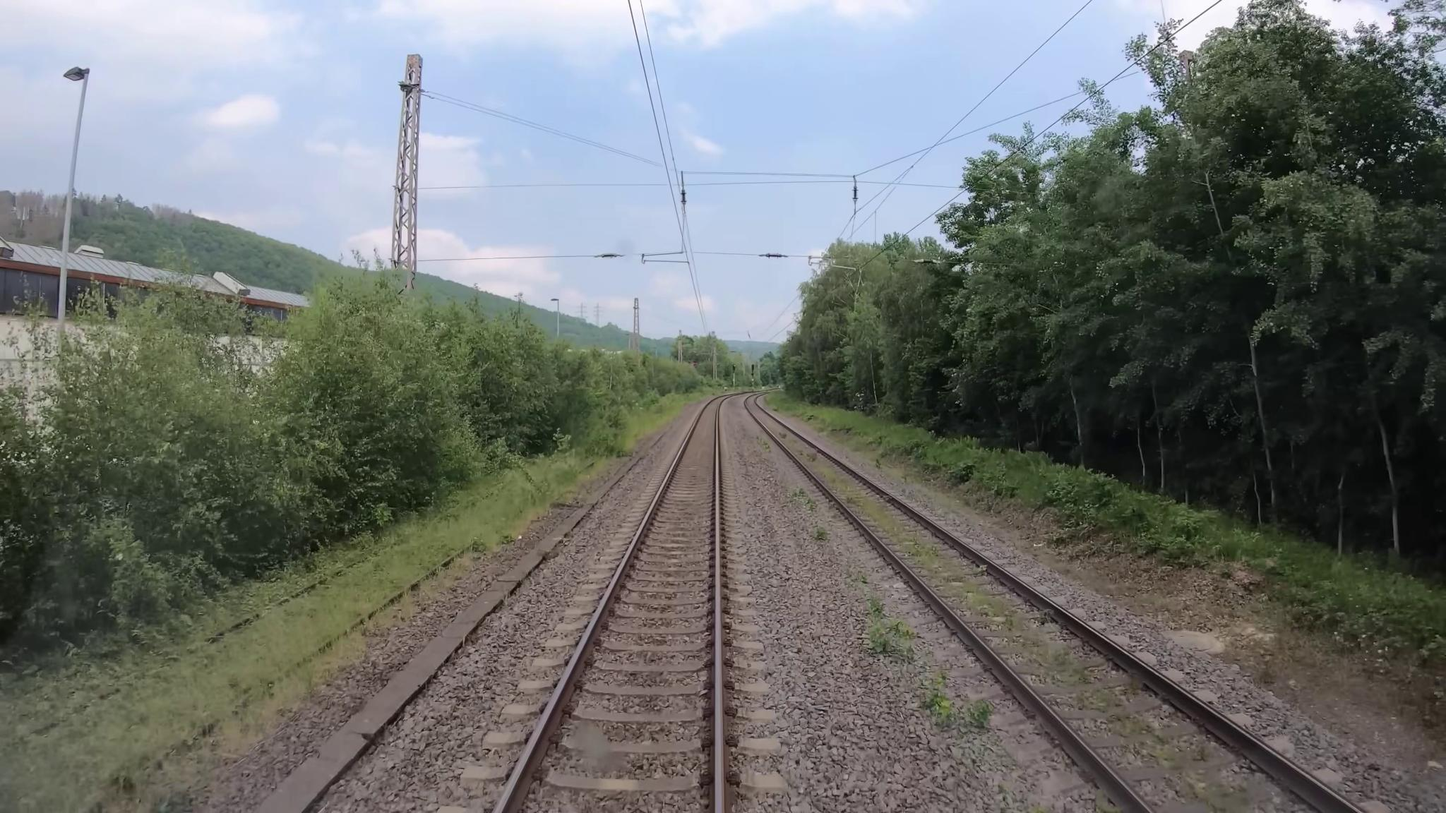Plant: (786, 405, 1446, 652), (869, 603, 926, 665), (915, 690, 946, 723), (963, 702, 997, 729)
